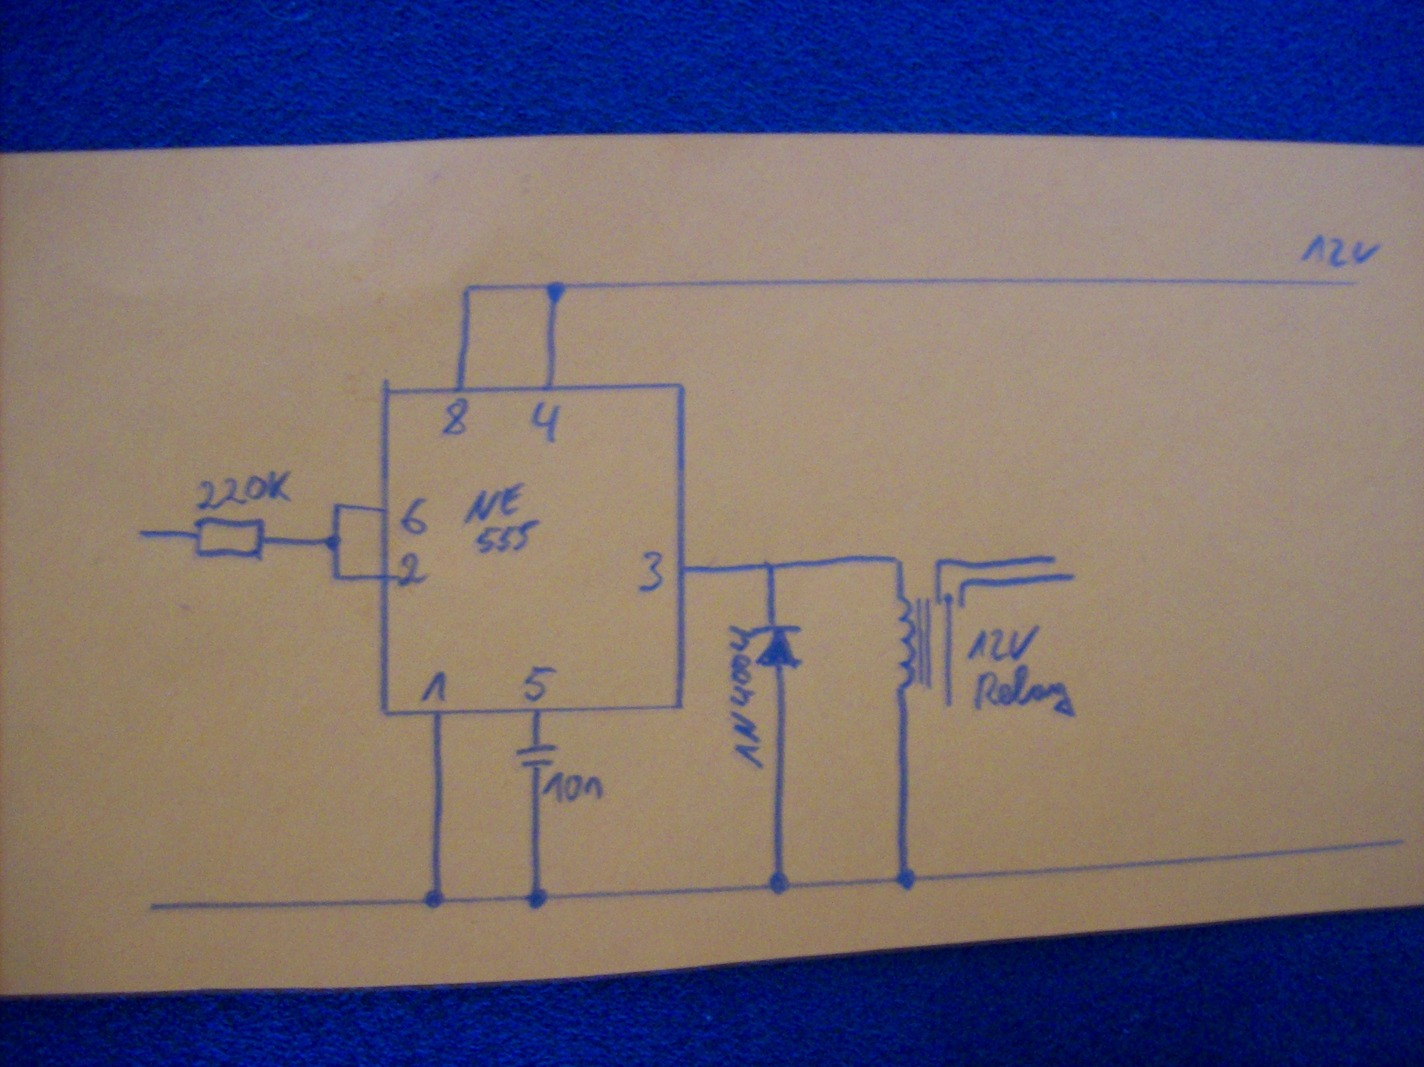capacitor.unpolarized: (514, 739, 565, 772)
diode: (752, 621, 807, 674)
integrated_cricuit.ne555: (374, 375, 694, 721)
junction: (892, 865, 920, 893), (764, 870, 793, 897), (523, 883, 550, 912), (421, 885, 448, 911), (543, 279, 569, 303), (322, 531, 345, 553), (458, 279, 480, 301), (888, 551, 909, 568), (760, 558, 780, 574), (329, 499, 348, 514), (931, 554, 948, 570), (957, 576, 974, 591), (329, 569, 345, 584)
relay: (890, 593, 968, 694)
resistor: (186, 514, 271, 563)
terminal: (1387, 831, 1411, 854), (145, 897, 170, 915), (1338, 276, 1363, 293), (1061, 568, 1081, 585), (940, 696, 958, 712), (1044, 549, 1060, 565), (134, 525, 149, 540)
text: (459, 477, 545, 556), (725, 622, 765, 773), (972, 664, 1079, 720), (194, 468, 295, 512), (1299, 231, 1383, 270), (966, 623, 1041, 664), (541, 770, 605, 805), (525, 401, 566, 446), (635, 547, 668, 596), (520, 664, 559, 704), (395, 494, 431, 538), (394, 549, 430, 590), (440, 395, 471, 438), (418, 668, 449, 705)
